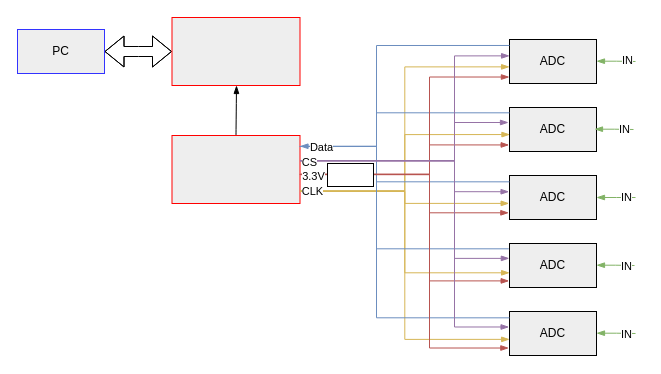
This 661x374 diagram has some shape labels left out. Each missing label, with the box of its shape:
DC filter: (326, 162, 374, 186)
RPI: (171, 16, 300, 86)
RPI Wedge: (171, 134, 300, 204)
